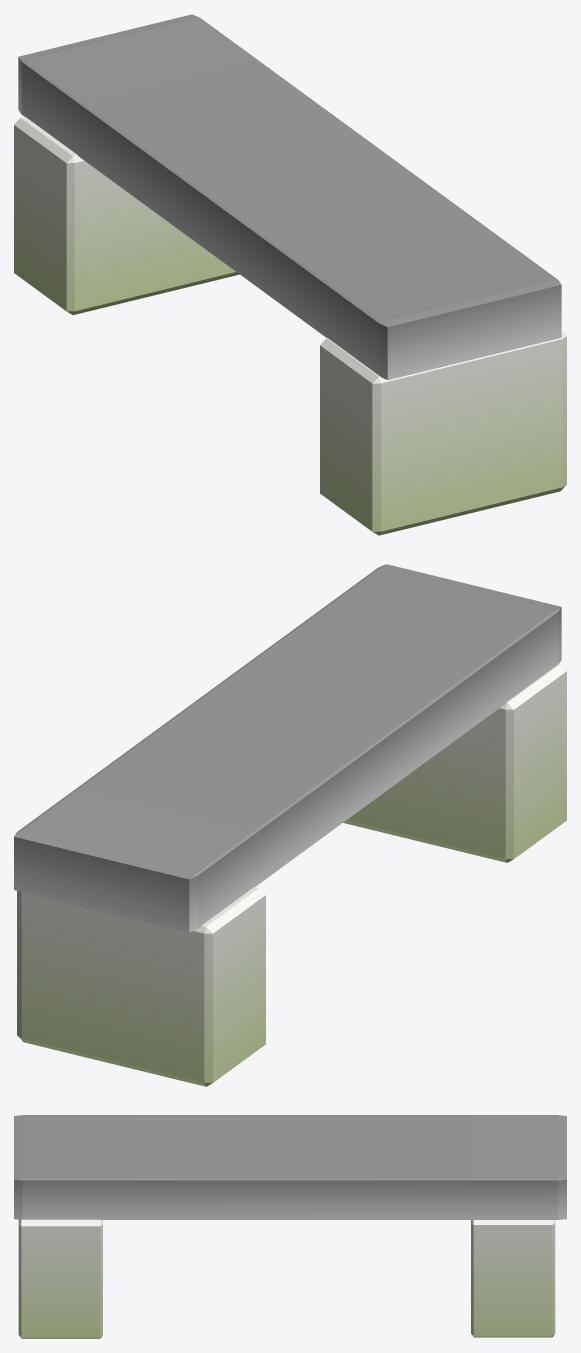
The model's file is Stone_Bench.fbx.
3 views of the same model, one above another, from view 1: azimuth 30°, elevation 25°; view 2: azimuth 150°, elevation 25°; view 3: azimuth 270°, elevation 25° (orthographic). The views are drawn at different scales.
Parts seen in each view (by area): view 1: Cube.017; view 2: Cube.017; view 3: Cube.017.
Part boxes in pixels (x1=…): Cube.017: x1=14, y1=14, x2=566, y2=535; Cube.017: x1=14, y1=564, x2=566, y2=1086; Cube.017: x1=14, y1=1115, x2=566, y2=1338.
Size of the model in its own units: 106 by 109 by 343.
